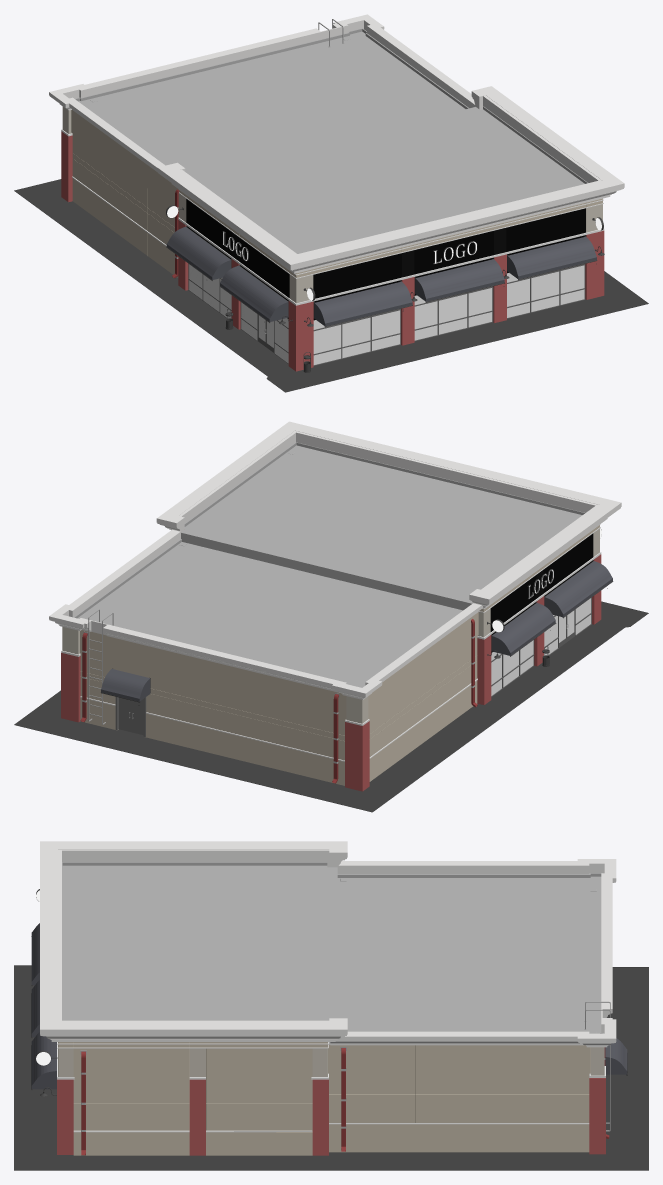
The model's file is dqsr.glb.
3 renders of one model, top to bottom at view 1: azimuth 30°, elevation 25°; view 2: azimuth 150°, elevation 25°; view 3: azimuth 270°, elevation 25°, orthographic. The views are drawn at different scales.
Visible parts, largest first — view 1: Line2029222408, Box2131682356, kesıt, Box2131682346, Box2131682303, Line2029222407, Box2131682297, Box2131682301, Box2131682304, Box2131682295, Box2131682302, Box2131682299 (+19 smaller); view 2: Line2029222408, Box2131682347, Box2131682356, kesıt, Box2131682346, Line2029222407, Box2131682303, Line2029222424, Box2131682286, Box2131682285, Box2131682338, Box2131682340 (+6 smaller); view 3: Line2029222408, Box2131682343, Box2131682356, kesıt, Box2131682293, Box2131682344, Line2029222407, Line2029222424, Group2112645988, Group2112646009, Box2131682340, Box2131682334 (+10 smaller).
Boxes of the visible parts, left/top/right/bottom form: Line2029222408: left=78, top=31, right=584, bottom=253; Box2131682356: left=14, top=179, right=648, bottom=392; kesıt: left=157, top=86, right=624, bottom=273; Box2131682346: left=71, top=110, right=179, bottom=277; Box2131682303: left=186, top=199, right=585, bottom=320; Line2029222407: left=49, top=14, right=475, bottom=172; Box2131682297: left=313, top=310, right=400, bottom=364; Box2131682301: left=414, top=288, right=492, bottom=340; Box2131682304: left=507, top=265, right=584, bottom=317; Box2131682295: left=314, top=281, right=412, bottom=326; Box2131682302: left=507, top=236, right=596, bottom=279; Box2131682299: left=415, top=259, right=504, bottom=301; Line2029222408: left=77, top=445, right=582, bottom=687; Box2131682347: left=80, top=630, right=346, bottom=785; Box2131682356: left=14, top=601, right=648, bottom=812; kesıt: left=156, top=421, right=621, bottom=608; Box2131682346: left=368, top=612, right=478, bottom=781; Line2029222407: left=49, top=529, right=482, bottom=699; Box2131682303: left=490, top=533, right=593, bottom=652; Line2029222424: left=74, top=442, right=585, bottom=618; Box2131682286: left=544, top=561, right=612, bottom=617; Box2131682285: left=492, top=603, right=555, bottom=655; Box2131682338: left=345, top=721, right=369, bottom=791; Box2131682340: left=61, top=652, right=80, bottom=722; Line2029222408: left=62, top=865, right=601, bottom=1044; Box2131682343: left=328, top=1044, right=590, bottom=1152; Box2131682356: left=14, top=965, right=648, bottom=1170; kesıt: left=40, top=841, right=347, bottom=1041; Box2131682293: left=73, top=1048, right=189, bottom=1155; Box2131682344: left=206, top=1048, right=312, bottom=1155; Line2029222407: left=330, top=859, right=616, bottom=1047; Line2029222424: left=62, top=862, right=603, bottom=1033; Group2112645988: left=58, top=1042, right=327, bottom=1047; Group2112646009: left=58, top=1048, right=327, bottom=1076; Box2131682340: left=589, top=1078, right=605, bottom=1154; Box2131682334: left=189, top=1079, right=205, bottom=1155.
Size of the model in its own units: 20.52 by 6.23 by 26.84.
